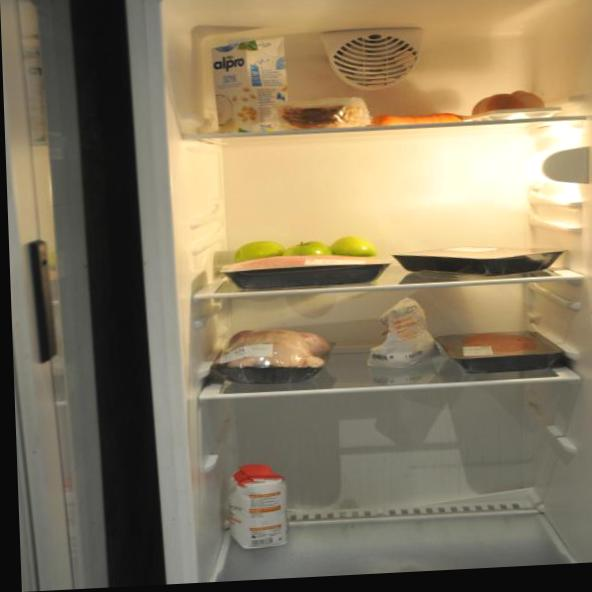apple: (237, 225, 376, 265)
bread: (293, 93, 365, 140)
carrots: (371, 100, 468, 134)
chicken: (216, 315, 338, 387)
eggs: (472, 82, 556, 129)
meat: (435, 315, 571, 384), (390, 236, 569, 288), (229, 245, 384, 301)
milk: (211, 32, 291, 140)
